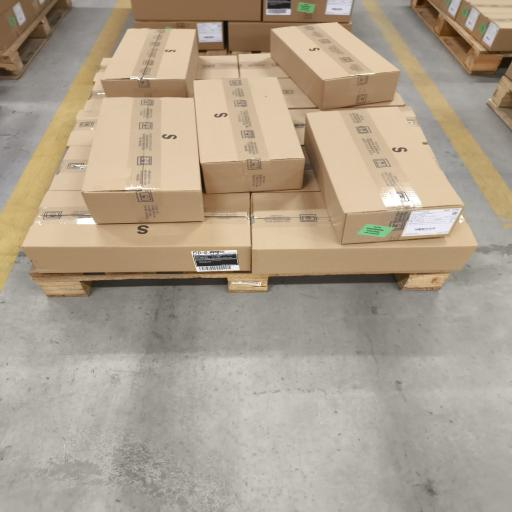pallet: (31, 267, 303, 297), (488, 77, 511, 129)
